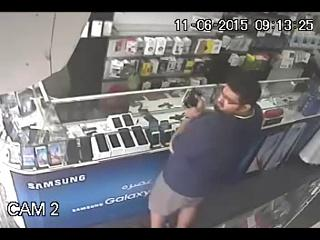Normal: (147, 69, 266, 227)
